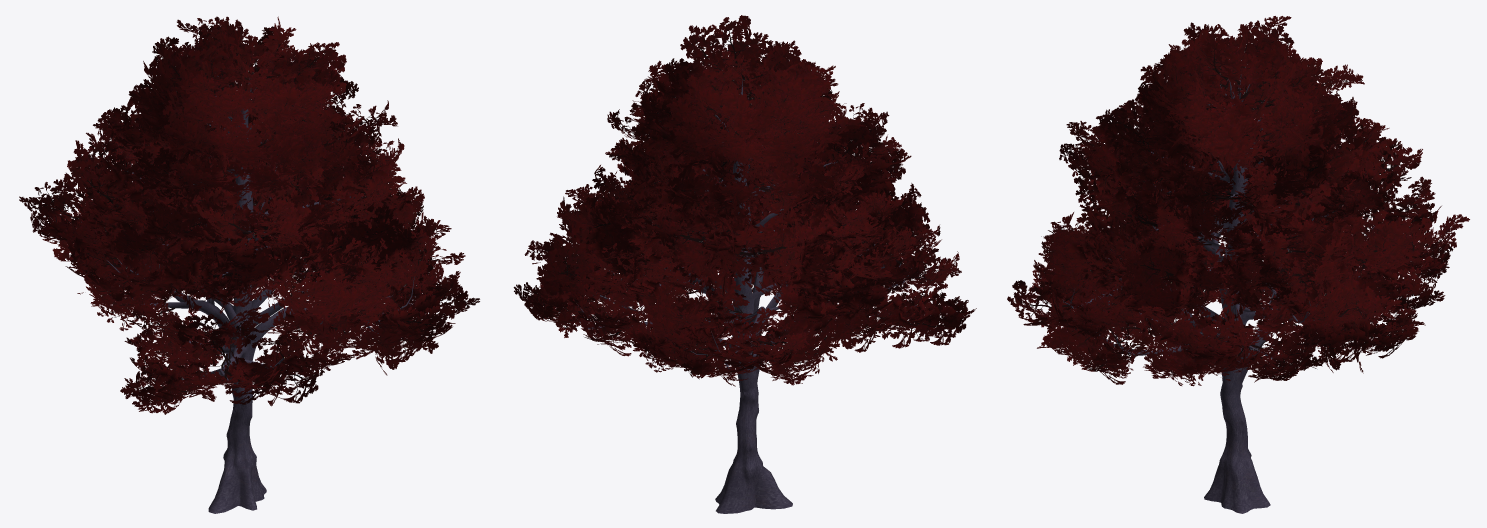
3 renders of one model, left to right at view 1: azimuth 30°, elevation 25°; view 2: azimuth 150°, elevation 25°; view 3: azimuth 270°, elevation 25°, orthographic.
Parts seen in each view (by area): view 1: SM_GF_Oak_Tree_02_LOD0; view 2: SM_GF_Oak_Tree_02_LOD0; view 3: SM_GF_Oak_Tree_02_LOD0.
Boxes of the visible parts, left/top/right/bottom form: SM_GF_Oak_Tree_02_LOD0: left=19, top=16, right=479, bottom=513; SM_GF_Oak_Tree_02_LOD0: left=513, top=15, right=976, bottom=513; SM_GF_Oak_Tree_02_LOD0: left=1007, top=16, right=1469, bottom=513.
Size of the model in its own units: 21.24 by 25.83 by 22.71.
Materials: 2 (2 with a texture image).
